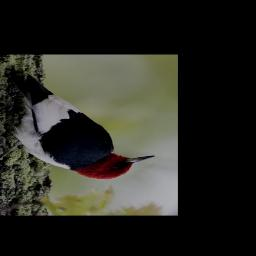Woodpecker: (0, 67, 163, 181)
